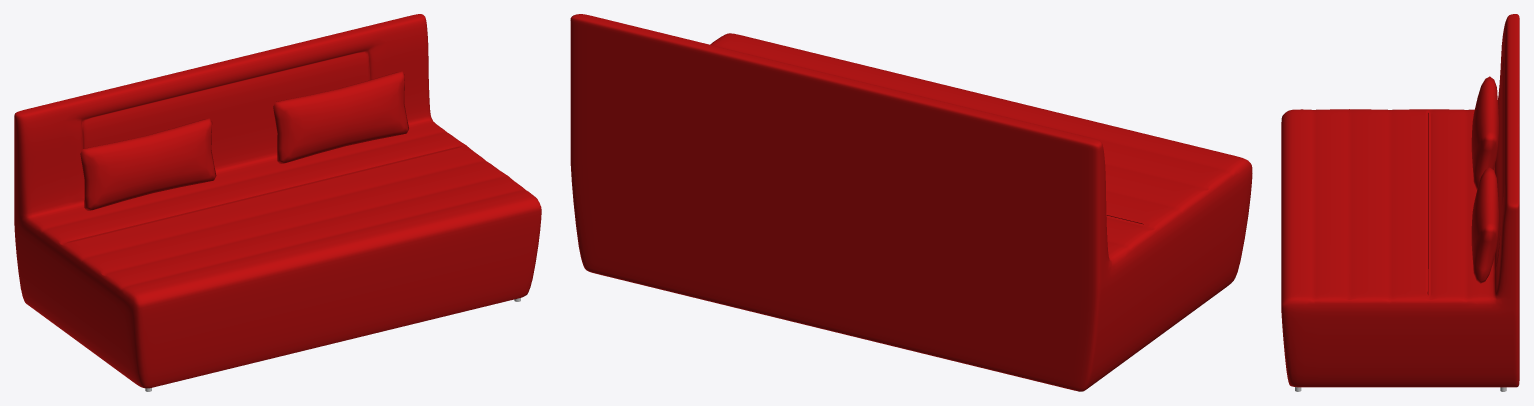
File: Beddinge_Sofa_bed-3D.DAE
3 views of the same model, side by side, from view 1: azimuth 30°, elevation 25°; view 2: azimuth 150°, elevation 25°; view 3: azimuth 270°, elevation 25° (orthographic). The views are drawn at different scales.
Parts seen in each view (by area): view 1: Box05, Box02, Box03; view 2: Box05; view 3: Box05, Box03, Box02.
Part boxes in pixels (box(x1,y1,x2,y2)): Box05: box(14, 14, 541, 388); Box02: box(80, 118, 216, 210); Box03: box(273, 71, 408, 163); Box05: box(570, 14, 1252, 391); Box05: box(1281, 14, 1519, 387); Box03: box(1471, 167, 1498, 283); Box02: box(1471, 76, 1498, 189).
Bounding box in the file's own units: 1995 × 934 × 1041.
